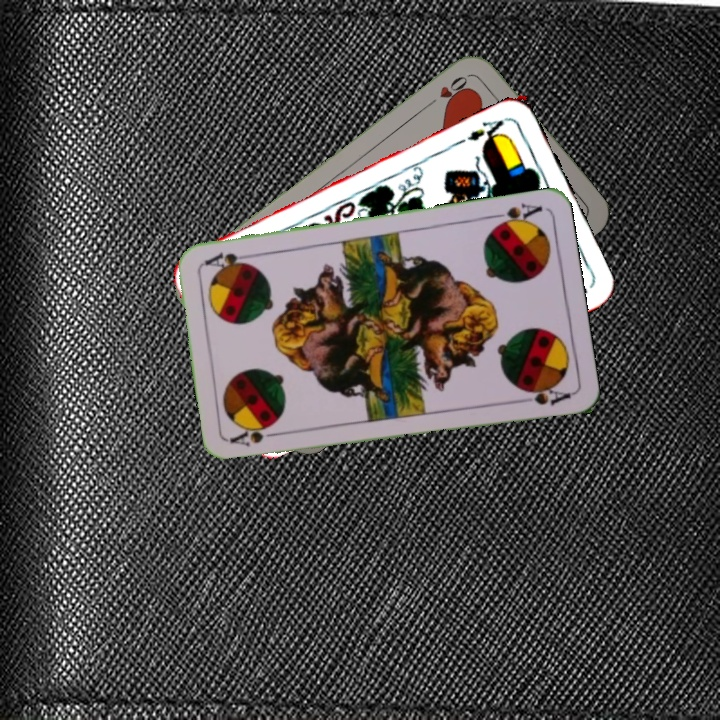EA: (463, 113, 510, 147)
HO: (422, 69, 475, 109)
SA: (486, 199, 545, 231), (227, 427, 286, 449)
